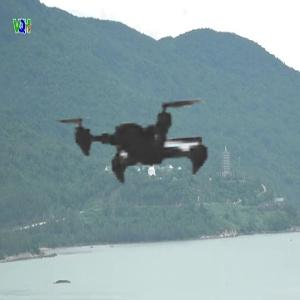drone: (13, 24, 278, 289)
